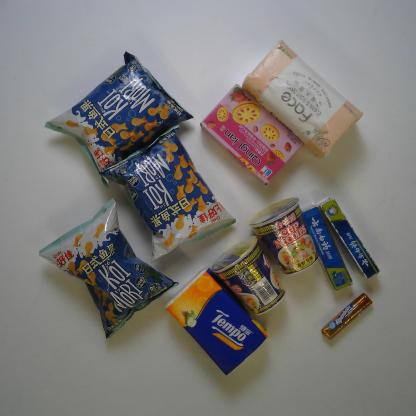Candy: (321, 292, 373, 340)
Dessert: (199, 83, 304, 186)
Instant Noodles: (210, 235, 286, 316), (247, 197, 320, 275)
Personal Hygiene: (318, 197, 380, 280), (301, 204, 354, 292)
Puffed Food: (44, 50, 194, 190), (38, 198, 179, 339), (98, 124, 236, 264)
Tissue: (242, 40, 364, 160), (164, 266, 269, 376)
